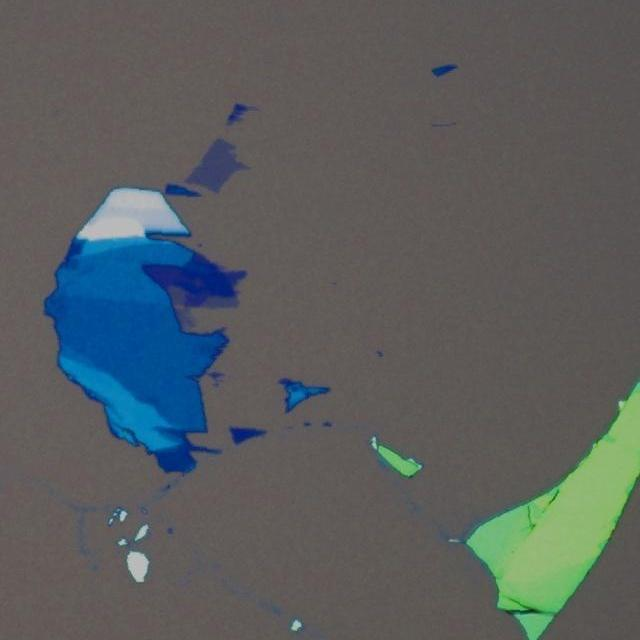monolayer-eWW4: (184, 136, 252, 194), (198, 294, 240, 308), (169, 285, 186, 302)
